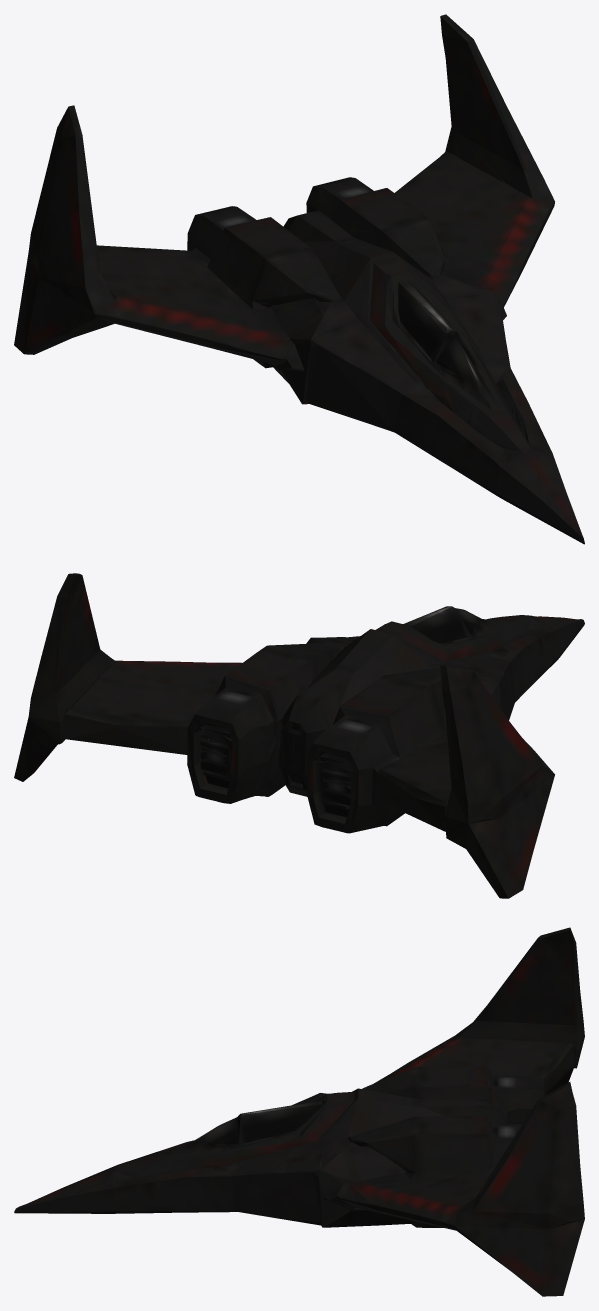
3 renders of one model, top to bottom at view 1: azimuth 30°, elevation 25°; view 2: azimuth 150°, elevation 25°; view 3: azimuth 270°, elevation 25°, orthographic. The views are drawn at different scales.
Visible parts, largest first — view 1: world; view 2: world; view 3: world.
Part boxes in pixels (x1,y1,x2,y2): world: [14, 14, 584, 544]; world: [14, 573, 584, 898]; world: [14, 927, 584, 1296].
Size of the model in its own units: 0.8548 by 0.4004 by 0.998.
Materials: 1 (1 with a texture image).
